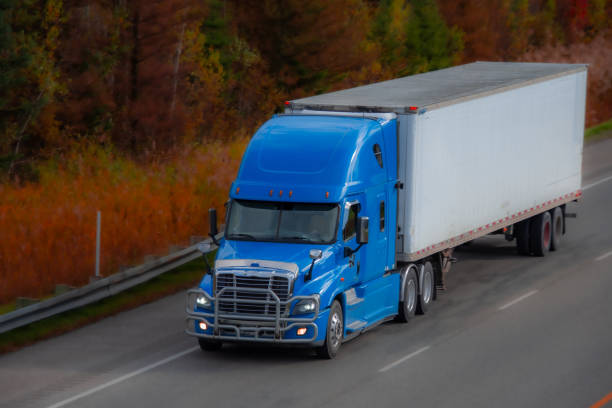Truck: (177, 48, 601, 368)
